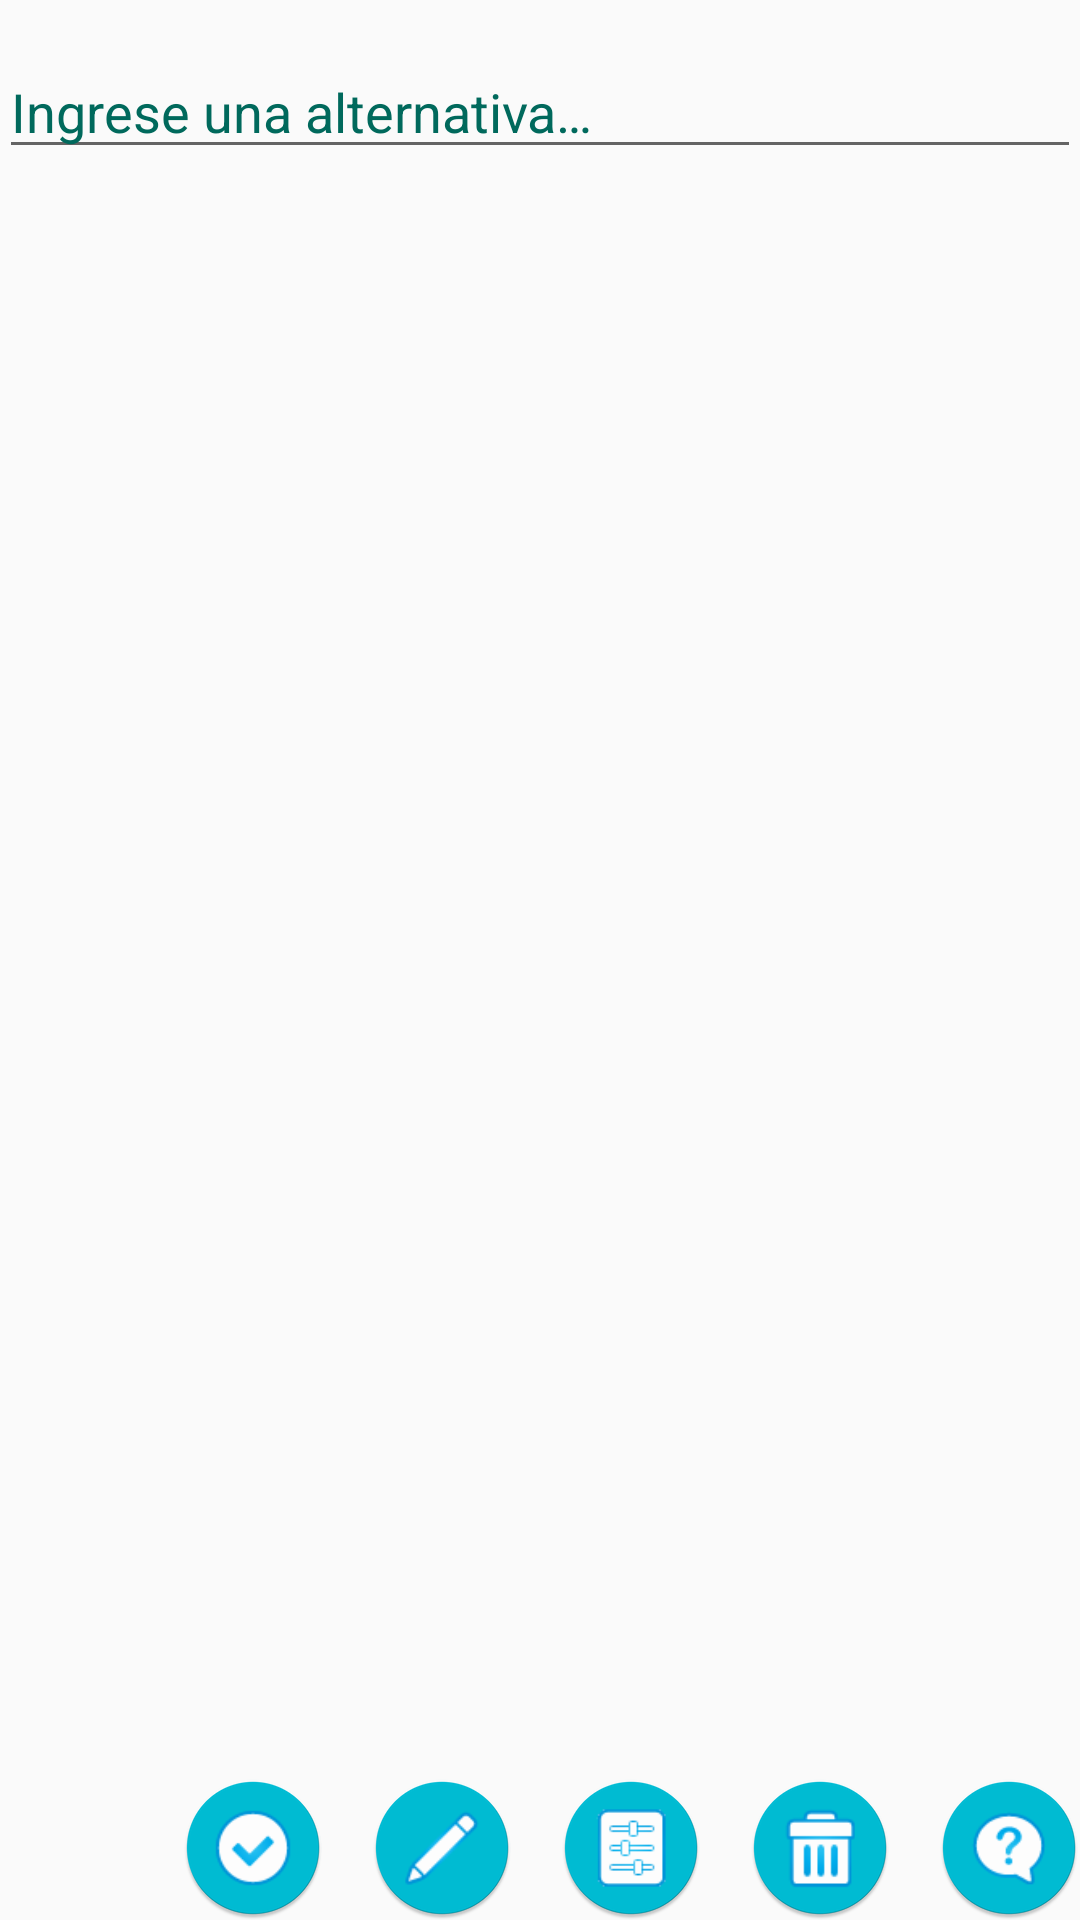

Where icons sit on this 1080 × 1920 app screen, as [x1=x1, y1=y1, x2=x2, y2=y2]:
ayuda: [x1=942, y1=1781, x2=1076, y2=1917]
delete: [x1=753, y1=1781, x2=887, y2=1917]
edit: [x1=375, y1=1781, x2=509, y2=1917]
ok: [x1=186, y1=1781, x2=320, y2=1917]
